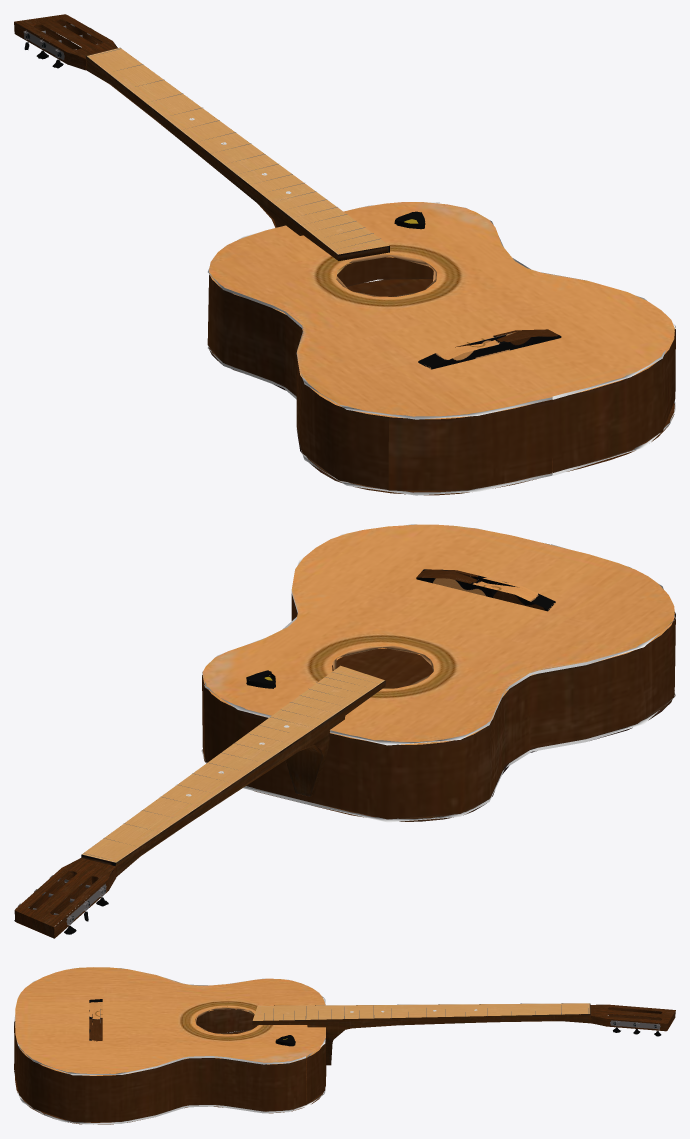
The model's file is guitar.obj.
The picture shows the model from 3 angles, top to bottom: view 1: azimuth 30°, elevation 25°; view 2: azimuth 150°, elevation 25°; view 3: azimuth 270°, elevation 25°; orthographic projection. The views are drawn at different scales.
Parts seen in each view (by area): view 1: Mesh_12_Mesh_12_wire_177088027, Mesh_12_Mesh_12_wire_050013003, Mesh_12_Mesh_12_03___Default, Mesh_12_Mesh_12_08___Default, Mesh_12_Mesh_12_wire_115115115; view 2: Mesh_12_Mesh_12_wire_177088027, Mesh_12_Mesh_12_wire_050013003, Mesh_12_Mesh_12_03___Default, Mesh_12_Mesh_12_08___Default, Mesh_12_Mesh_12_wire_115115115; view 3: Mesh_12_Mesh_12_wire_177088027, Mesh_12_Mesh_12_wire_050013003, Mesh_12_Mesh_12_03___Default, Mesh_12_Mesh_12_08___Default, Mesh_12_Mesh_12_wire_115115115.
Boxes of the visible parts, x1,y1,x2,y2 form: Mesh_12_Mesh_12_wire_177088027: (208, 202, 675, 495); Mesh_12_Mesh_12_wire_050013003: (207, 257, 675, 490); Mesh_12_Mesh_12_03___Default: (86, 47, 389, 260); Mesh_12_Mesh_12_08___Default: (14, 14, 117, 70); Mesh_12_Mesh_12_wire_115115115: (23, 18, 511, 342); Mesh_12_Mesh_12_wire_177088027: (201, 524, 675, 822); Mesh_12_Mesh_12_wire_050013003: (202, 594, 675, 819); Mesh_12_Mesh_12_03___Default: (81, 665, 385, 876); Mesh_12_Mesh_12_08___Default: (14, 858, 117, 938); Mesh_12_Mesh_12_wire_115115115: (17, 672, 360, 925); Mesh_12_Mesh_12_wire_177088027: (14, 967, 326, 1124); Mesh_12_Mesh_12_wire_050013003: (14, 1009, 326, 1122); Mesh_12_Mesh_12_03___Default: (252, 1003, 592, 1065); Mesh_12_Mesh_12_08___Default: (590, 1004, 675, 1031); Mesh_12_Mesh_12_wire_115115115: (100, 1005, 660, 1029).
Bounding box in the file's own units: 0.3664 × 0.0995 × 0.9582.
11 materials, 4 textured.
